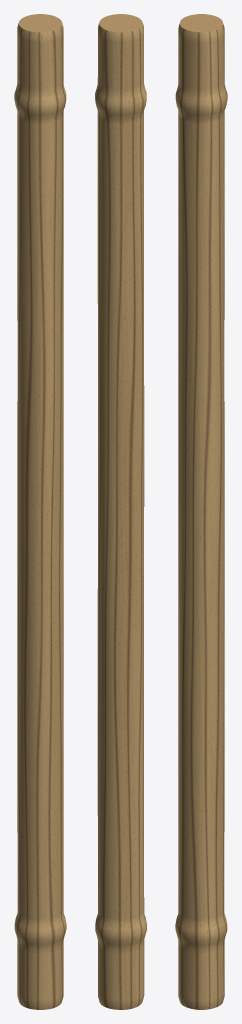
File: duskoak_shaft.glb
3 views of the same model, side by side, from view 1: azimuth 90°, elevation 25°; view 2: azimuth 150°, elevation 25°; view 3: azimuth 270°, elevation 25° (orthographic).
Visible parts, largest first — view 1: ash worked longitudinal grain, ash endgrain on both sawn ends; view 2: ash worked longitudinal grain, ash endgrain on both sawn ends; view 3: ash worked longitudinal grain, ash endgrain on both sawn ends.
Boxes of the visible parts, x1,y1,x2,y2 form: ash worked longitudinal grain: [14, 23, 66, 1009]; ash endgrain on both sawn ends: [18, 14, 62, 32]; ash worked longitudinal grain: [95, 23, 146, 1009]; ash endgrain on both sawn ends: [99, 14, 142, 32]; ash worked longitudinal grain: [175, 24, 227, 1009]; ash endgrain on both sawn ends: [179, 14, 222, 32].
Bounding box in the file's own units: 0.0538 × 1.12 × 0.054.
2 materials, 2 textured.
